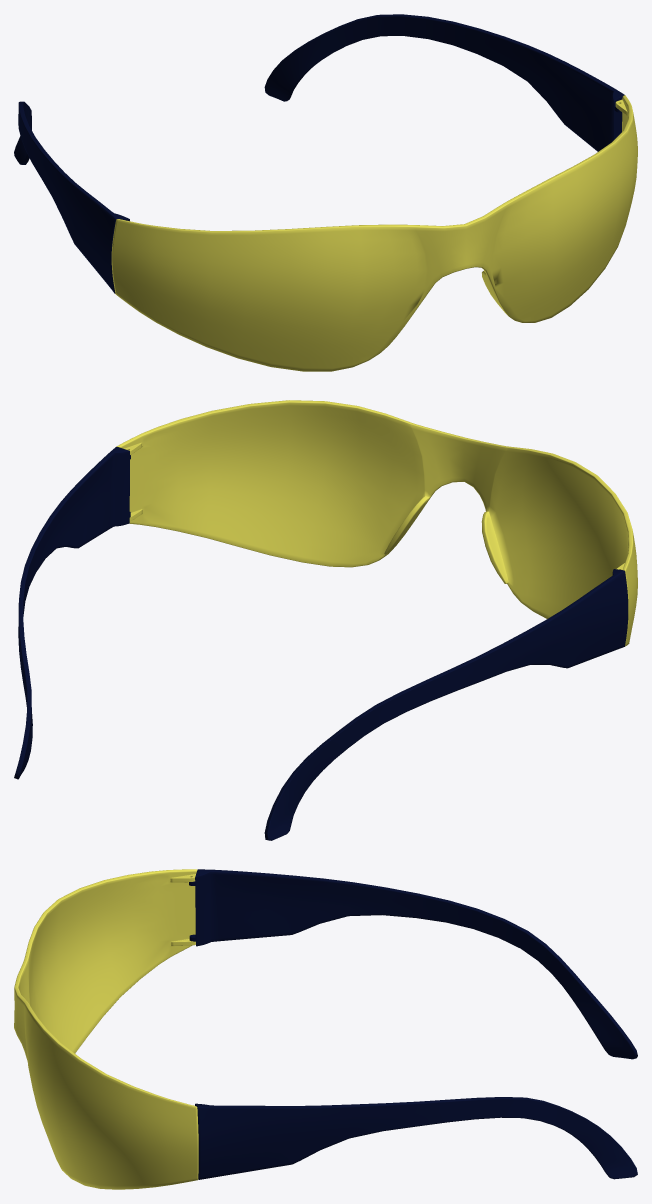
The picture shows the model from 3 angles, top to bottom: view 1: azimuth 30°, elevation 25°; view 2: azimuth 150°, elevation 25°; view 3: azimuth 270°, elevation 25°; orthographic projection. The views are drawn at different scales.
Visible parts, largest first — view 1: Glasses_Yellow_opened_001; view 2: Glasses_Yellow_opened_001; view 3: Glasses_Yellow_opened_001.
Boxes of the visible parts, x1,y1,x2,y2 form: Glasses_Yellow_opened_001: (14,14,637,371); Glasses_Yellow_opened_001: (14,400,637,840); Glasses_Yellow_opened_001: (14,869,637,1189).
Bounding box in the file's own units: 139 × 39.81 × 152.
